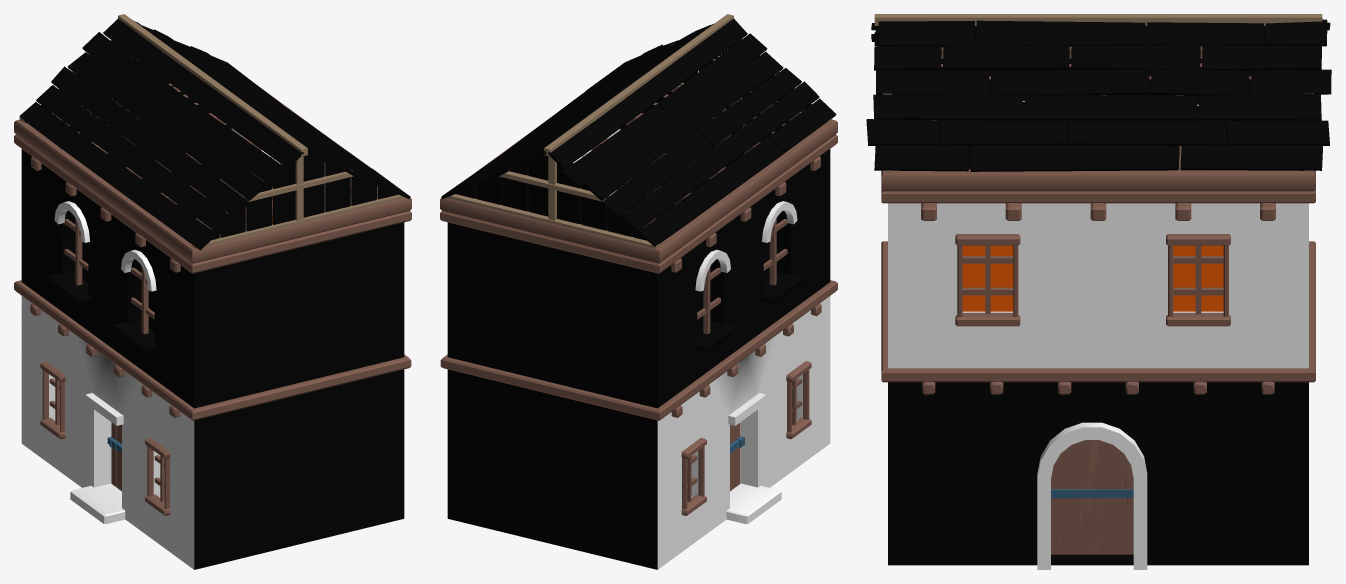
The model's file is civilian_house_37_e.FBX.
3 renders of one model, left to right at view 1: azimuth 30°, elevation 25°; view 2: azimuth 150°, elevation 25°; view 3: azimuth 270°, elevation 25°, orthographic. The views are drawn at different scales.
Parts seen in each view (by area): view 1: civilian_house_37_e_LOD0; view 2: civilian_house_37_e_LOD0; view 3: civilian_house_37_e_LOD0.
Boxes of the visible parts, x1,y1,x2,y2 form: civilian_house_37_e_LOD0: [14, 14, 411, 569]; civilian_house_37_e_LOD0: [440, 14, 837, 569]; civilian_house_37_e_LOD0: [866, 14, 1331, 569].
Size of what is drawn, in the model's own units: 568 by 893 by 773.
